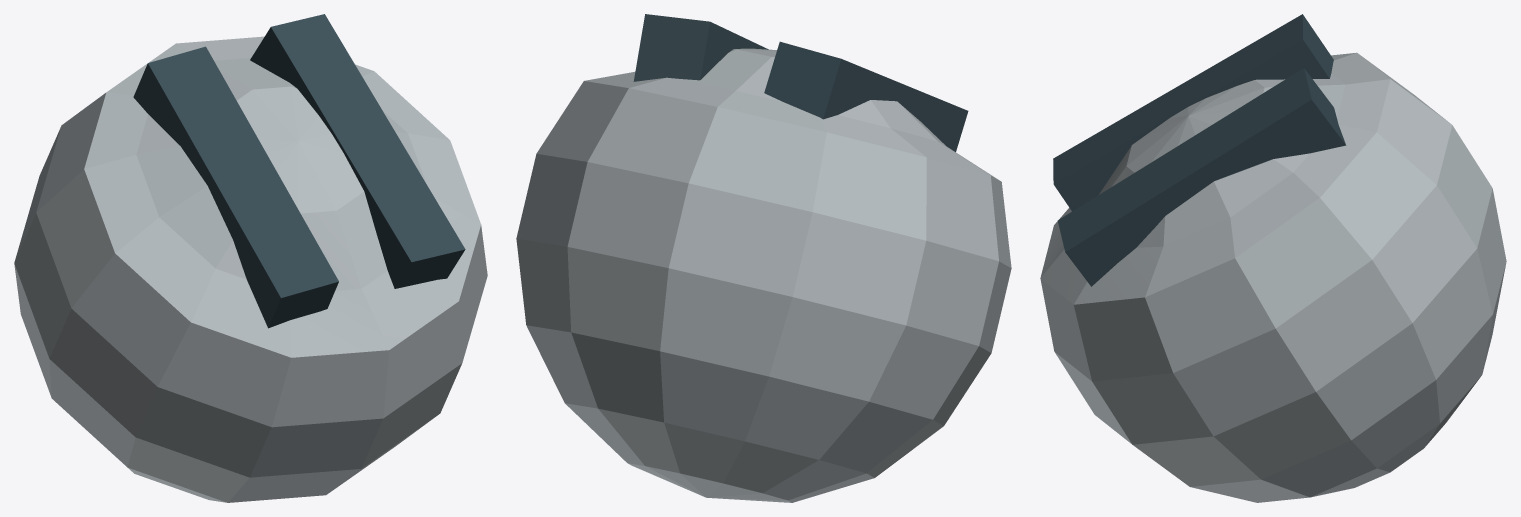
3 renders of one model, left to right at view 1: azimuth 30°, elevation 25°; view 2: azimuth 150°, elevation 25°; view 3: azimuth 270°, elevation 25°, orthographic. The views are drawn at different scales.
Visible parts, largest first — view 1: node_MeshObject2129121280-PolyPaper21; view 2: node_MeshObject2129121280-PolyPaper21; view 3: node_MeshObject2129121280-PolyPaper21.
Part boxes in pixels (x1,y1,x2,y2): node_MeshObject2129121280-PolyPaper21: (14,14,487,502); node_MeshObject2129121280-PolyPaper21: (516,14,1011,502); node_MeshObject2129121280-PolyPaper21: (1040,14,1506,502).
Bounding box in the file's own units: 0.1475 × 0.1512 × 0.1493.
